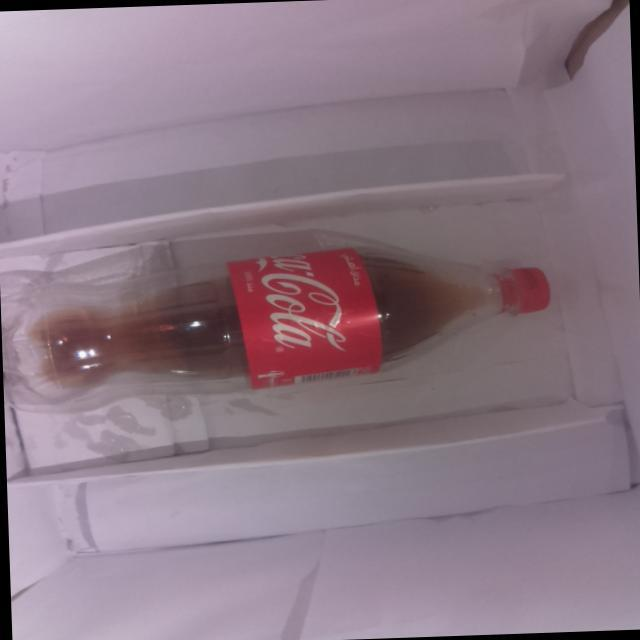good: (1, 206, 575, 432)
